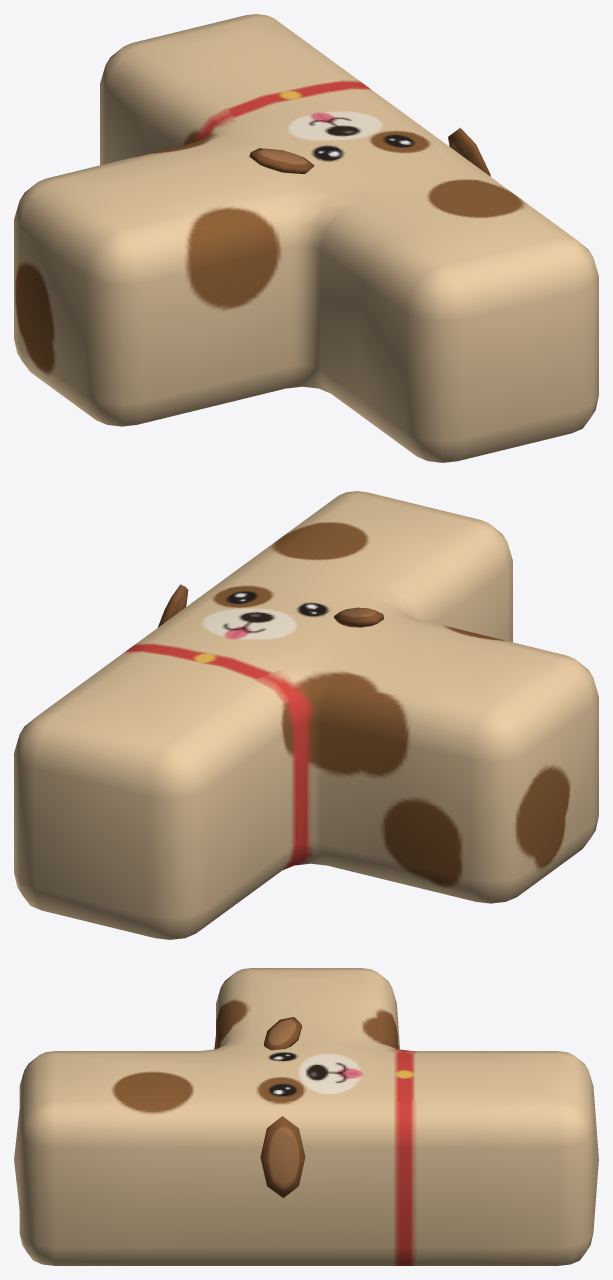
Rendered from Dog_T.fbx.
The picture shows the model from 3 angles, top to bottom: view 1: azimuth 30°, elevation 25°; view 2: azimuth 150°, elevation 25°; view 3: azimuth 270°, elevation 25°; orthographic projection. The views are drawn at different scales.
Visible parts, largest first — view 1: Dog_T; view 2: Dog_T; view 3: Dog_T.
Part boxes in pixels (left/top/right/bottom): Dog_T: left=14, top=14, right=598, bottom=462; Dog_T: left=14, top=491, right=598, bottom=939; Dog_T: left=14, top=968, right=598, bottom=1265.
Bounding box in the file's own units: 2.09 × 0.9674 × 2.98.
Materials: 1 (1 with a texture image).
